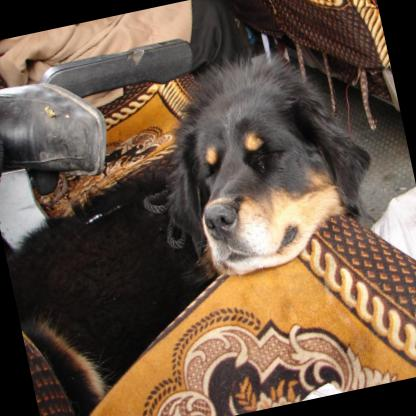Tibetan_mastiff: (135, 20, 391, 288)
